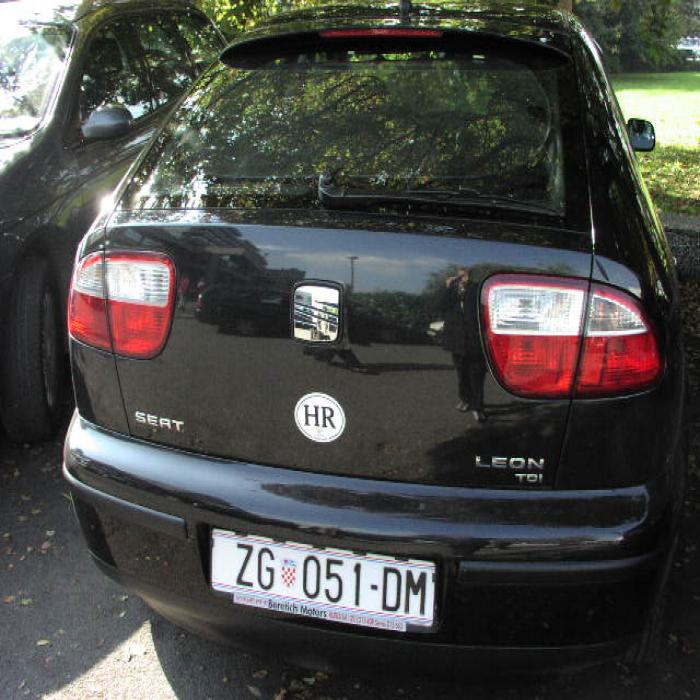number_plate: (212, 532, 428, 616)
